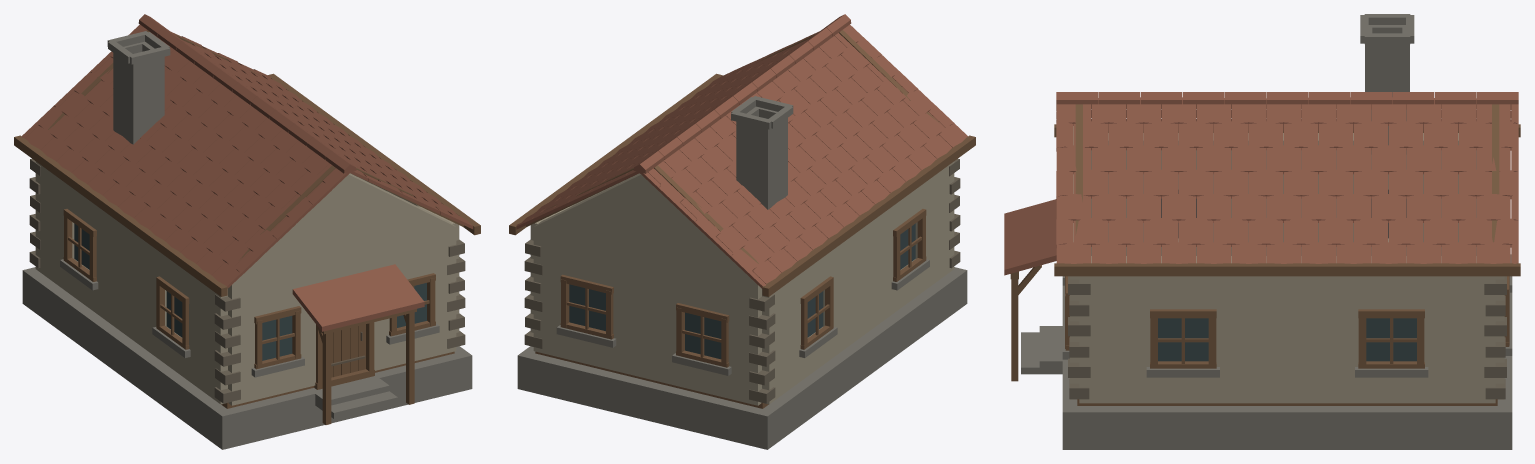
Rendered from keeper_house.glb.
The picture shows the model from 3 angles, left to right: view 1: azimuth 30°, elevation 25°; view 2: azimuth 150°, elevation 25°; view 3: azimuth 270°, elevation 25°; orthographic projection. The views are drawn at different scales.
Parts seen in each view (by area): view 1: keeper_house_Keeper terracotta tile, keeper_house_Keeper lime plaster, keeper_house_Keeper sandstone foundations, keeper_house_Keeper weathered oak, keeper_house_Keeper warm recessed corner stone, keeper_house_Keeper window glass; view 2: keeper_house_Keeper lime plaster, keeper_house_Keeper terracotta tile, keeper_house_Keeper sandstone foundations, keeper_house_Keeper weathered oak, keeper_house_Keeper warm recessed corner stone, keeper_house_Keeper window glass; view 3: keeper_house_Keeper terracotta tile, keeper_house_Keeper lime plaster, keeper_house_Keeper sandstone foundations, keeper_house_Keeper weathered oak, keeper_house_Keeper window glass, keeper_house_Keeper warm recessed corner stone.
Boxes of the visible parts, x1=… form: keeper_house_Keeper terracotta tile: x1=21, y1=14, x2=473, y2=331; keeper_house_Keeper lime plaster: x1=35, y1=161, x2=459, y2=405; keeper_house_Keeper sandstone foundations: x1=22, y1=31, x2=472, y2=449; keeper_house_Keeper weathered oak: x1=14, y1=30, x2=480, y2=424; keeper_house_Keeper warm recessed corner stone: x1=29, y1=158, x2=465, y2=403; keeper_house_Keeper window glass: x1=74, y1=223, x2=426, y2=360; keeper_house_Keeper lime plaster: x1=530, y1=161, x2=954, y2=405; keeper_house_Keeper terracotta tile: x1=516, y1=14, x2=967, y2=288; keeper_house_Keeper sandstone foundations: x1=517, y1=96, x2=967, y2=449; keeper_house_Keeper weathered oak: x1=509, y1=30, x2=975, y2=408; keeper_house_Keeper warm recessed corner stone: x1=524, y1=158, x2=960, y2=403; keeper_house_Keeper window glass: x1=569, y1=223, x2=915, y2=359; keeper_house_Keeper terracotta tile: x1=1004, y1=92, x2=1518, y2=275; keeper_house_Keeper lime plaster: x1=1070, y1=126, x2=1504, y2=403; keeper_house_Keeper sandstone foundations: x1=1021, y1=14, x2=1512, y2=449; keeper_house_Keeper weathered oak: x1=1010, y1=104, x2=1520, y2=405; keeper_house_Keeper window glass: x1=1158, y1=189, x2=1416, y2=361; keeper_house_Keeper warm recessed corner stone: x1=1068, y1=276, x2=1506, y2=399.
Bounding box in the file's own units: 8.1 × 8.5 × 12.4.
